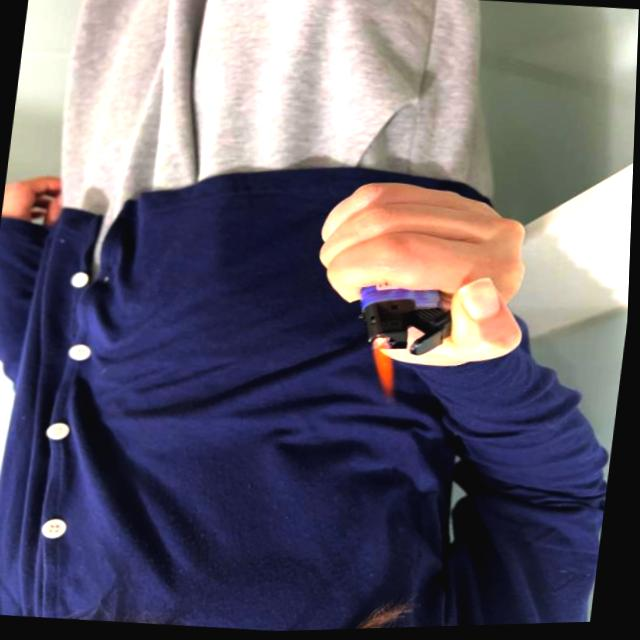helmet: (365, 337, 402, 404)
